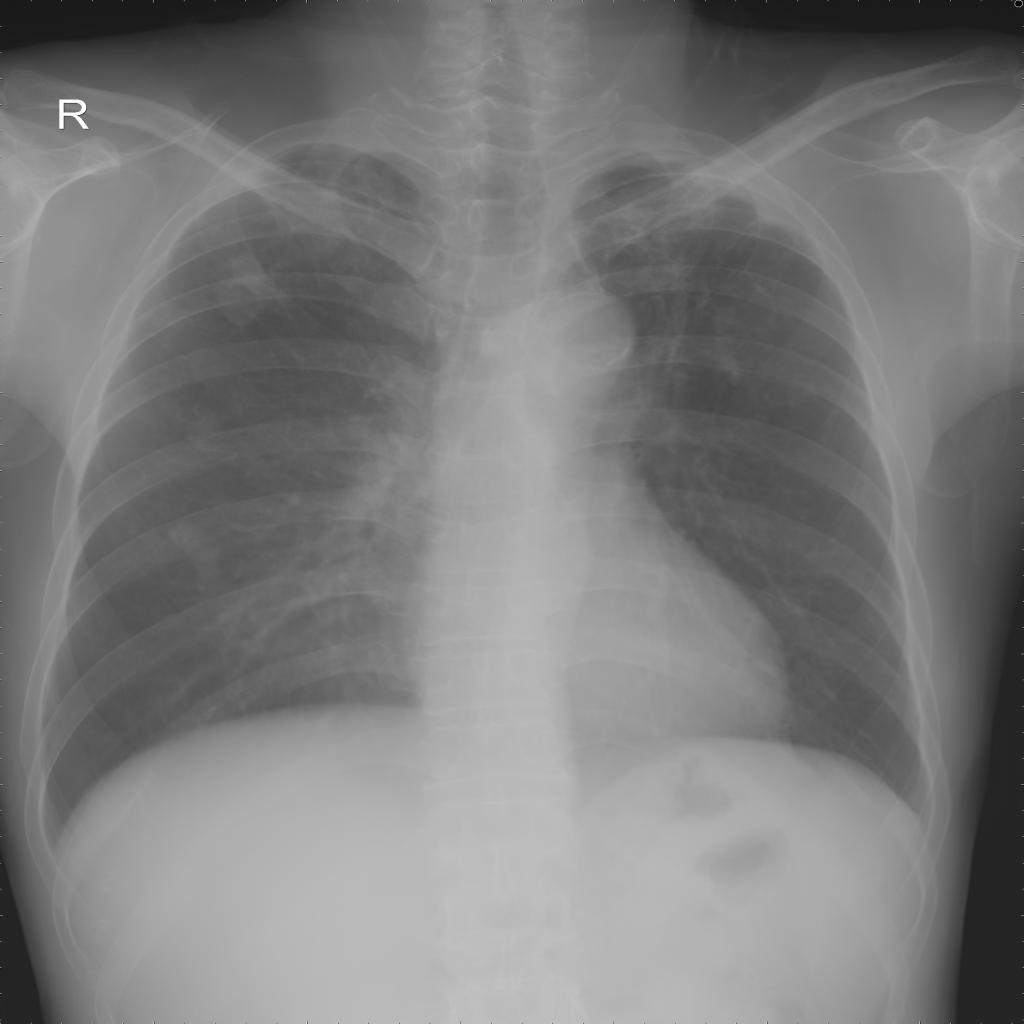Nodule: (216, 264, 272, 330)
